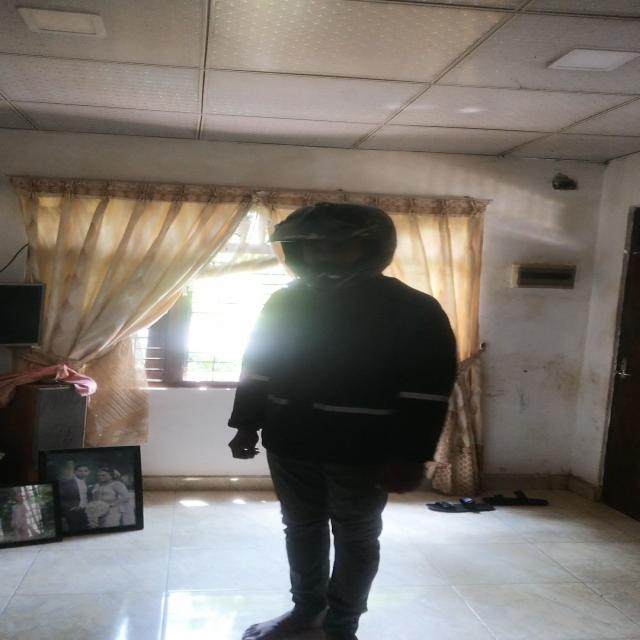Helmet_Wearer: (258, 198, 398, 302)
Jacket_Wearer: (224, 271, 452, 494)
Person: (224, 197, 464, 638)
